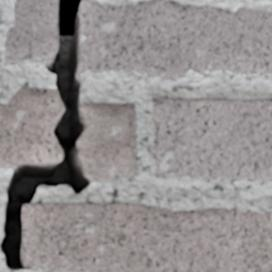brick: (22, 203, 271, 271), (152, 98, 271, 179)
broken_brick: (76, 0, 271, 79), (0, 88, 64, 167), (77, 103, 135, 181), (5, 0, 60, 65)
crack: (0, 2, 90, 270)
